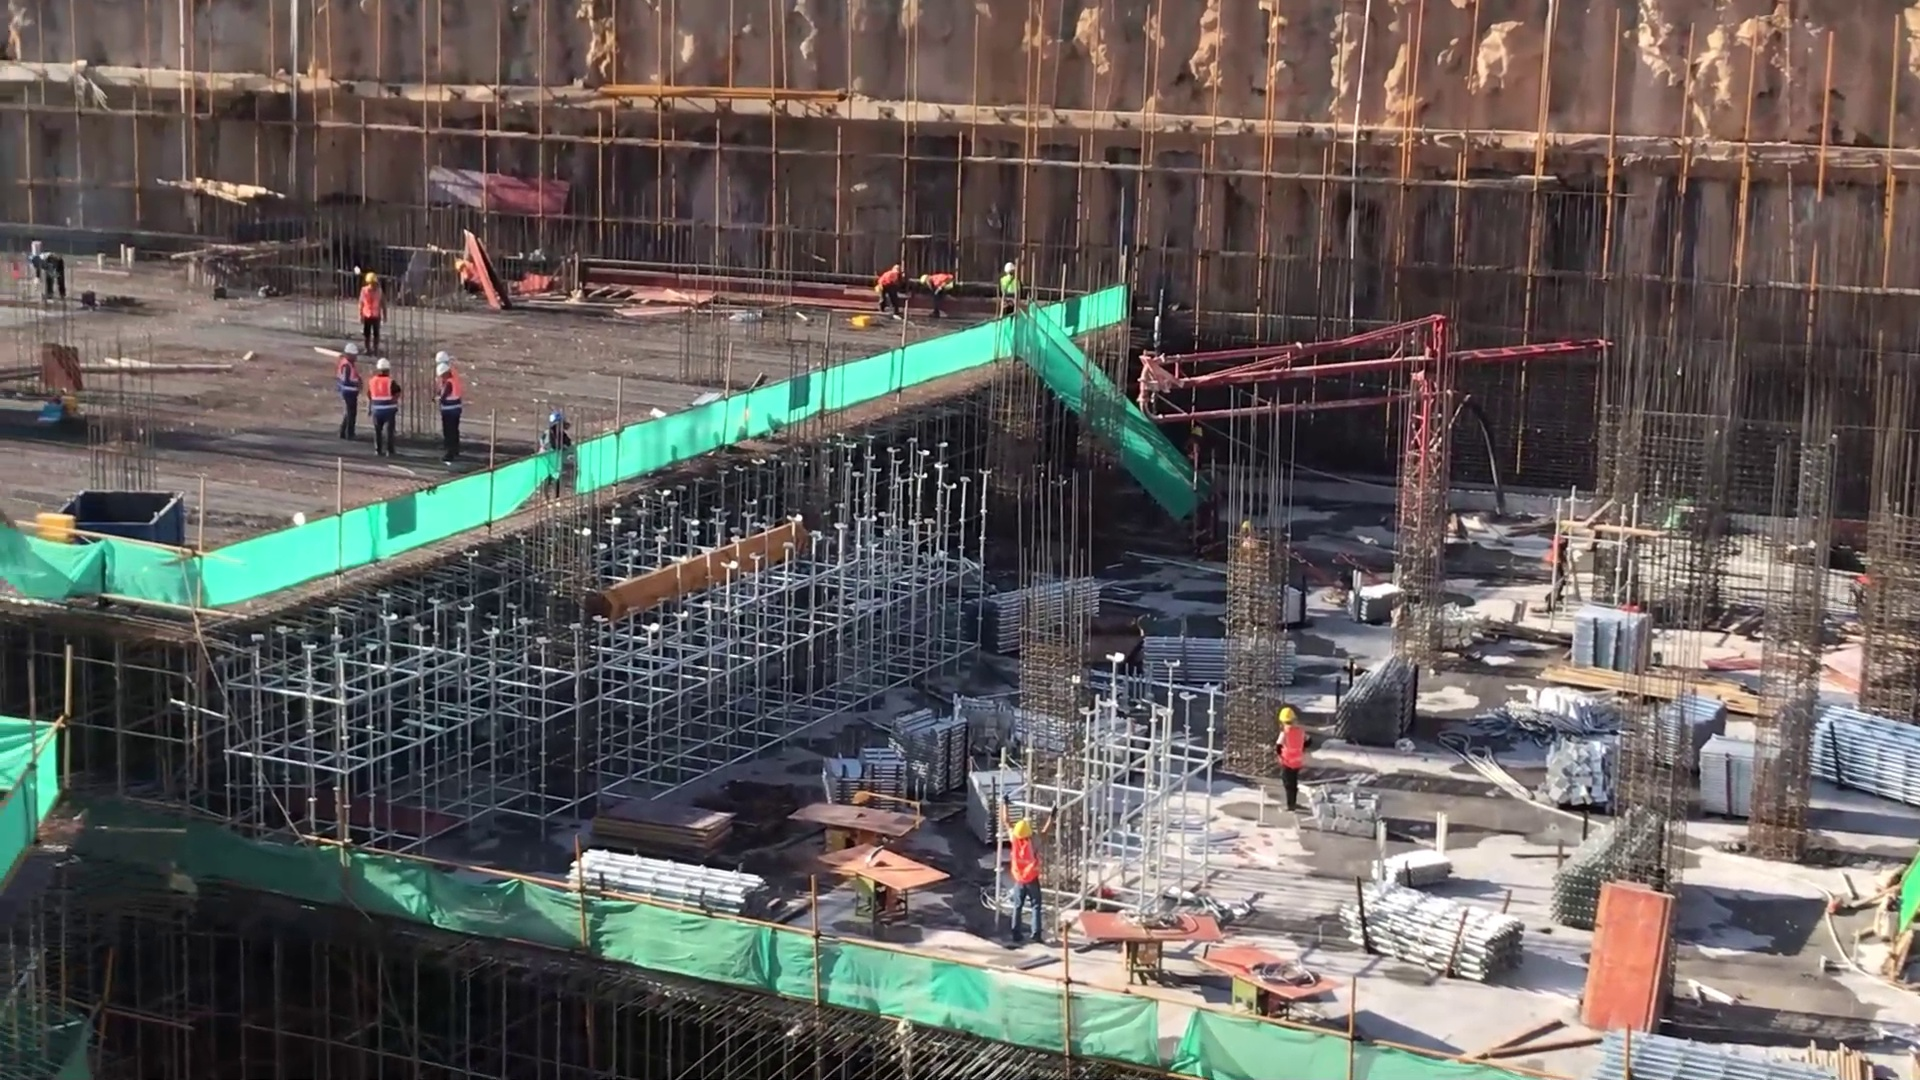board: (1054, 856, 1356, 1035), (795, 790, 943, 924), (1581, 864, 1677, 1044)
helmet: (1273, 695, 1301, 725), (334, 334, 360, 362), (1008, 820, 1036, 844), (544, 410, 569, 435), (430, 359, 448, 383), (374, 359, 394, 380), (432, 348, 451, 371), (360, 269, 378, 292)
hopper: (59, 487, 182, 542)
person: (998, 793, 1051, 948), (1271, 702, 1313, 814), (431, 363, 471, 465), (329, 340, 365, 439), (369, 353, 402, 459), (352, 273, 391, 350), (29, 246, 69, 303), (1543, 519, 1568, 608), (916, 268, 955, 317), (536, 406, 573, 451), (873, 264, 905, 316), (995, 260, 1023, 316)
scaffold: (1358, 861, 1549, 1011), (556, 833, 774, 946), (1799, 707, 1920, 818), (970, 581, 1095, 657), (1133, 642, 1232, 705), (1339, 652, 1410, 737), (820, 735, 905, 793), (1569, 602, 1639, 673), (908, 713, 972, 788), (1705, 732, 1759, 812), (965, 696, 1030, 756), (1344, 577, 1394, 620)
vest: (1007, 835, 1045, 890), (1278, 723, 1306, 772), (335, 357, 366, 399), (370, 367, 398, 414), (435, 376, 464, 418), (359, 283, 383, 323), (1000, 277, 1017, 302), (932, 273, 952, 291)
wood: (1560, 641, 1803, 698)
